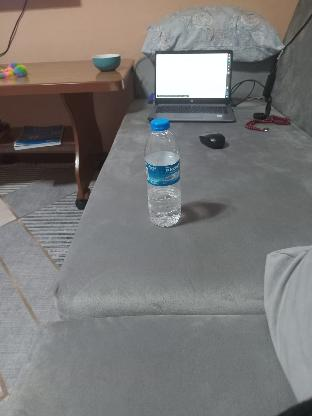Plastic Bottle: (143, 117, 191, 230)
